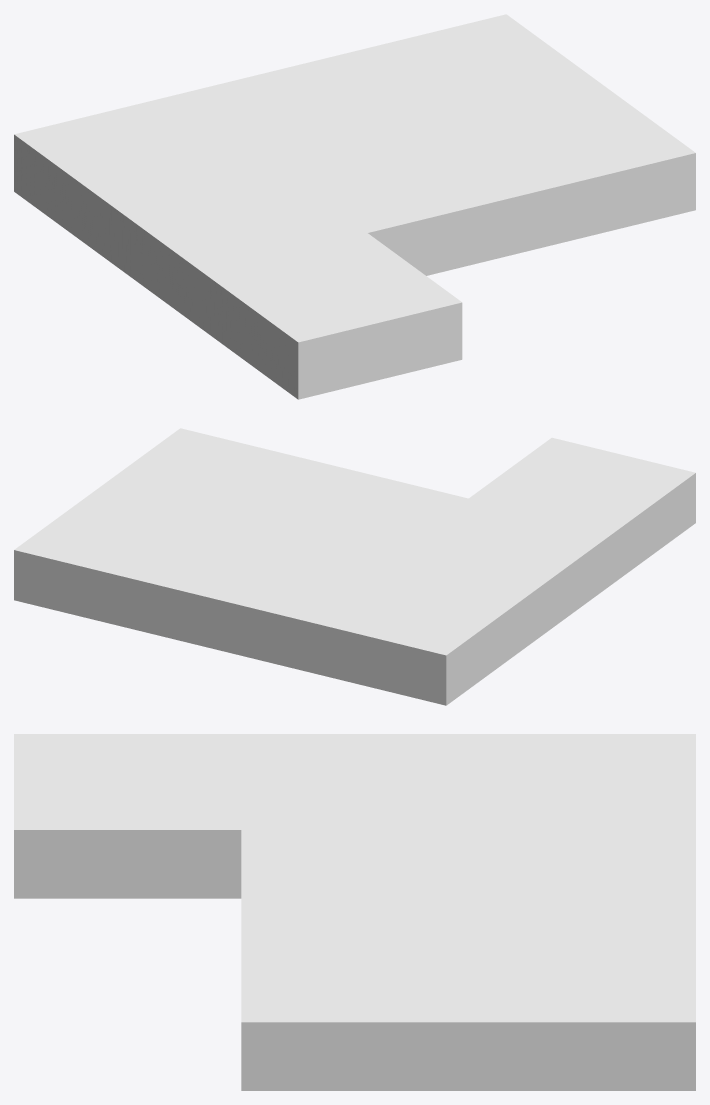
File: cloud5.gltf
3 views of the same model, one above another, from view 1: azimuth 30°, elevation 25°; view 2: azimuth 150°, elevation 25°; view 3: azimuth 270°, elevation 25° (orthographic). The views are drawn at different scales.
Visible parts, largest first — view 1: cloud5; view 2: cloud5; view 3: cloud5.
Boxes of the visible parts, box(x1,y1,x2,y2) form: cloud5: box(14, 14, 695, 399); cloud5: box(14, 428, 695, 705); cloud5: box(14, 734, 695, 1090).
Bounding box in the file's own units: 36 × 4 × 36.
1 material, 1 textured.
